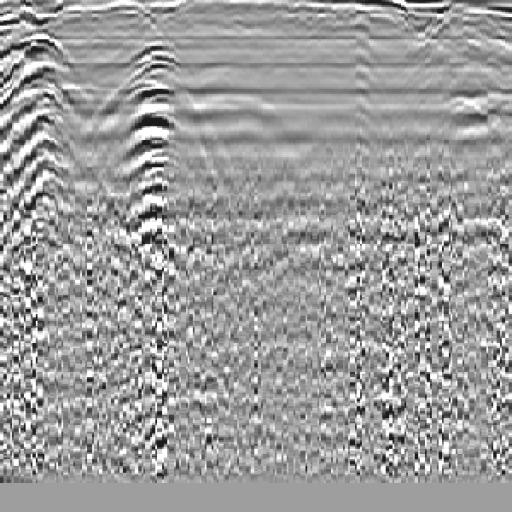metalic: (111, 36, 198, 235)
